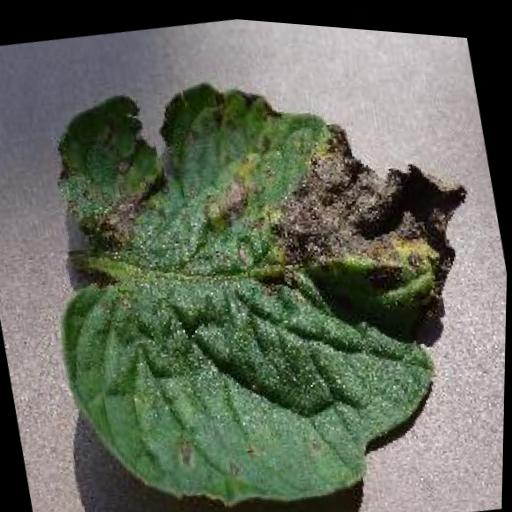Early Blight: (10, 18, 512, 512)
